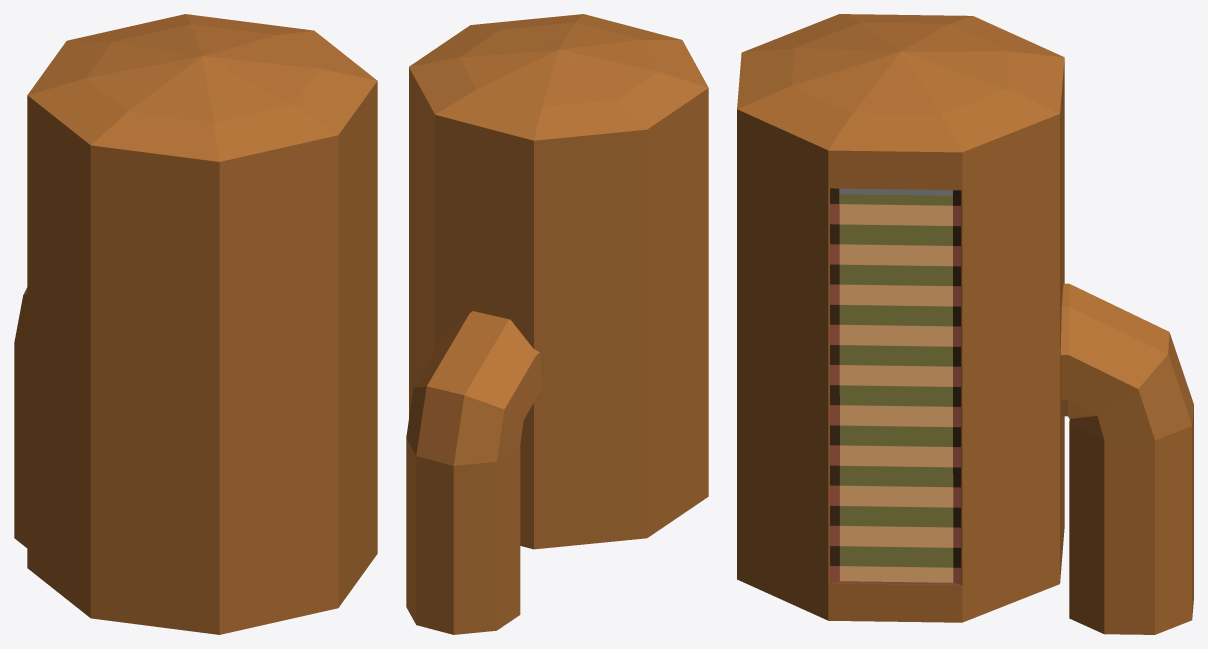
Rendered from VAT190.glb.
3 views of the same model, side by side, from view 1: azimuth 30°, elevation 25°; view 2: azimuth 150°, elevation 25°; view 3: azimuth 270°, elevation 25° (orthographic). The views are drawn at different scales.
Parts seen in each view (by area): view 1: Cylinder, Cylinder.001; view 2: Cylinder, Cylinder.001; view 3: Cylinder, glass, liquidHeight, Cylinder.001.
Boxes of the visible parts, <box> form: Cylinder: <box>27,14,377,634</box>; Cylinder.001: <box>14,287,27,547</box>; Cylinder: <box>409,14,708,549</box>; Cylinder.001: <box>406,311,541,634</box>; Cylinder: <box>737,14,1064,622</box>; glass: <box>830,188,960,584</box>; liquidHeight: <box>839,189,952,582</box>; Cylinder.001: <box>1060,283,1193,634</box>.
Size of the model in its own units: 1.82 by 3.44 by 2.54.
4 materials, 1 textured.
